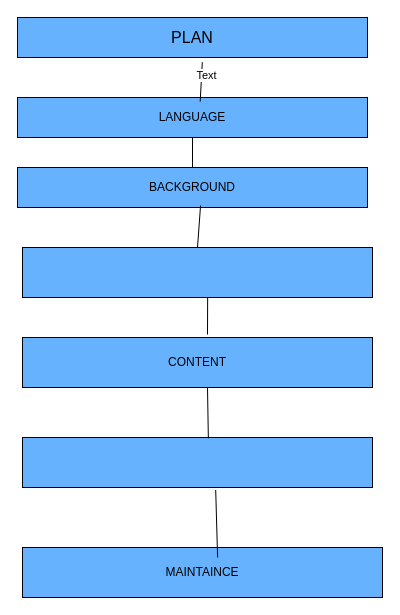
Some shapes in this 400 by 615 pixel diagram are drawn without their labels. Here are the shapes that lost their labels. From the top down, the centre of each, then its label:
point (197, 272): LAYOUT
point (197, 462): DEVELOPMENT
